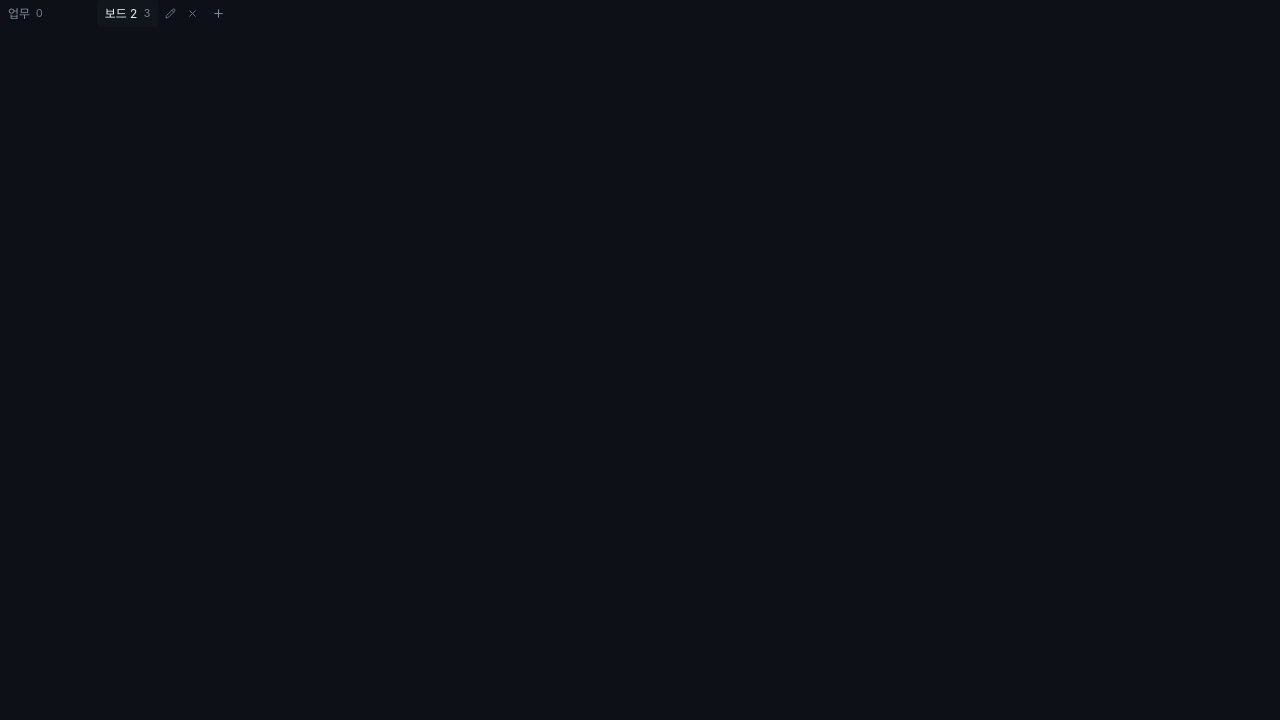
BoardTabs › 삭제 확인창이 사라지는 위젯 수를 숫자로 말한다
This screenshot has width=1280, height=720.
Click the button named "보드 2 보드 삭제" at (192, 14), box [182,4,202,24]
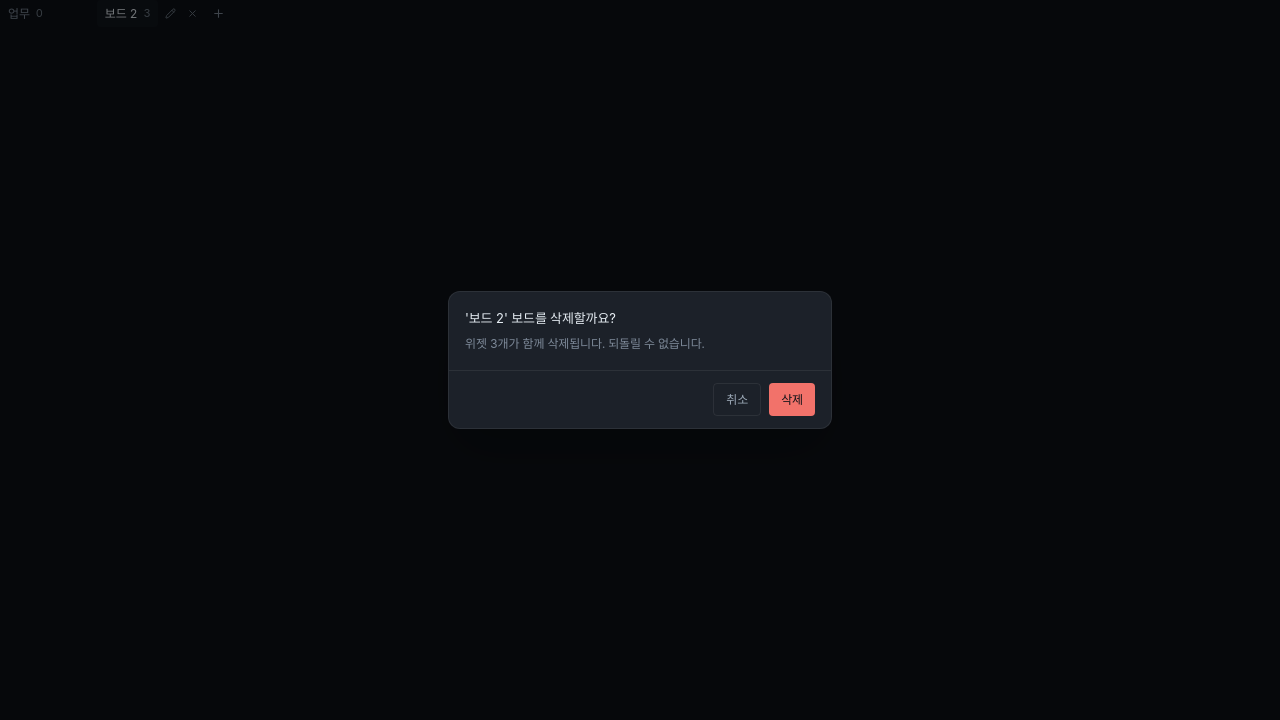
Result: the text "위젯 3개가 함께 삭제됩니다. 되돌릴 수 없습니다." is shown at [465,336,705,351]
